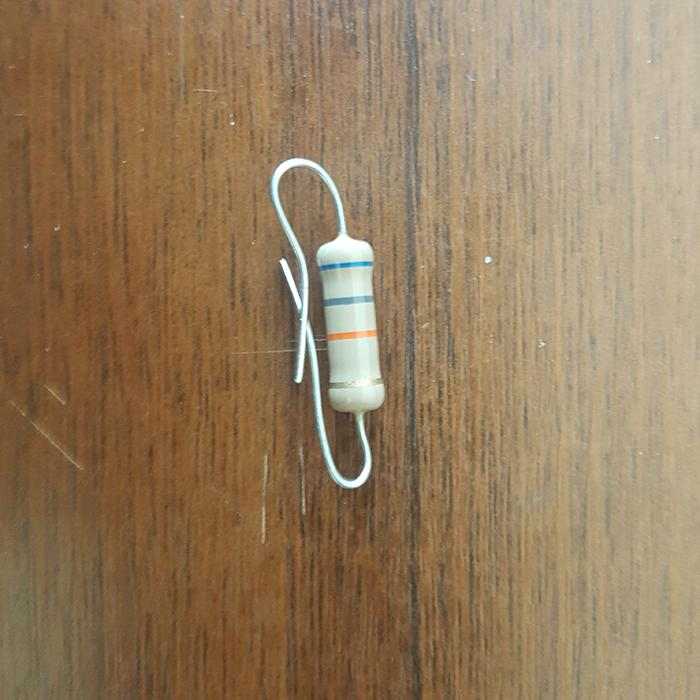resistor: (314, 234, 386, 414)
